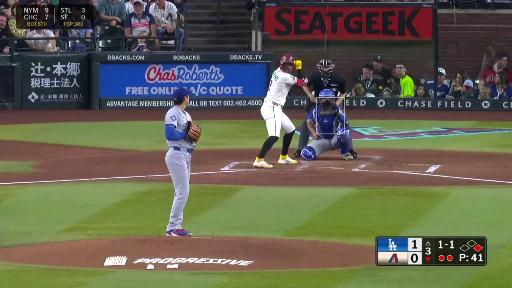pitcher: (165, 87, 202, 237)
